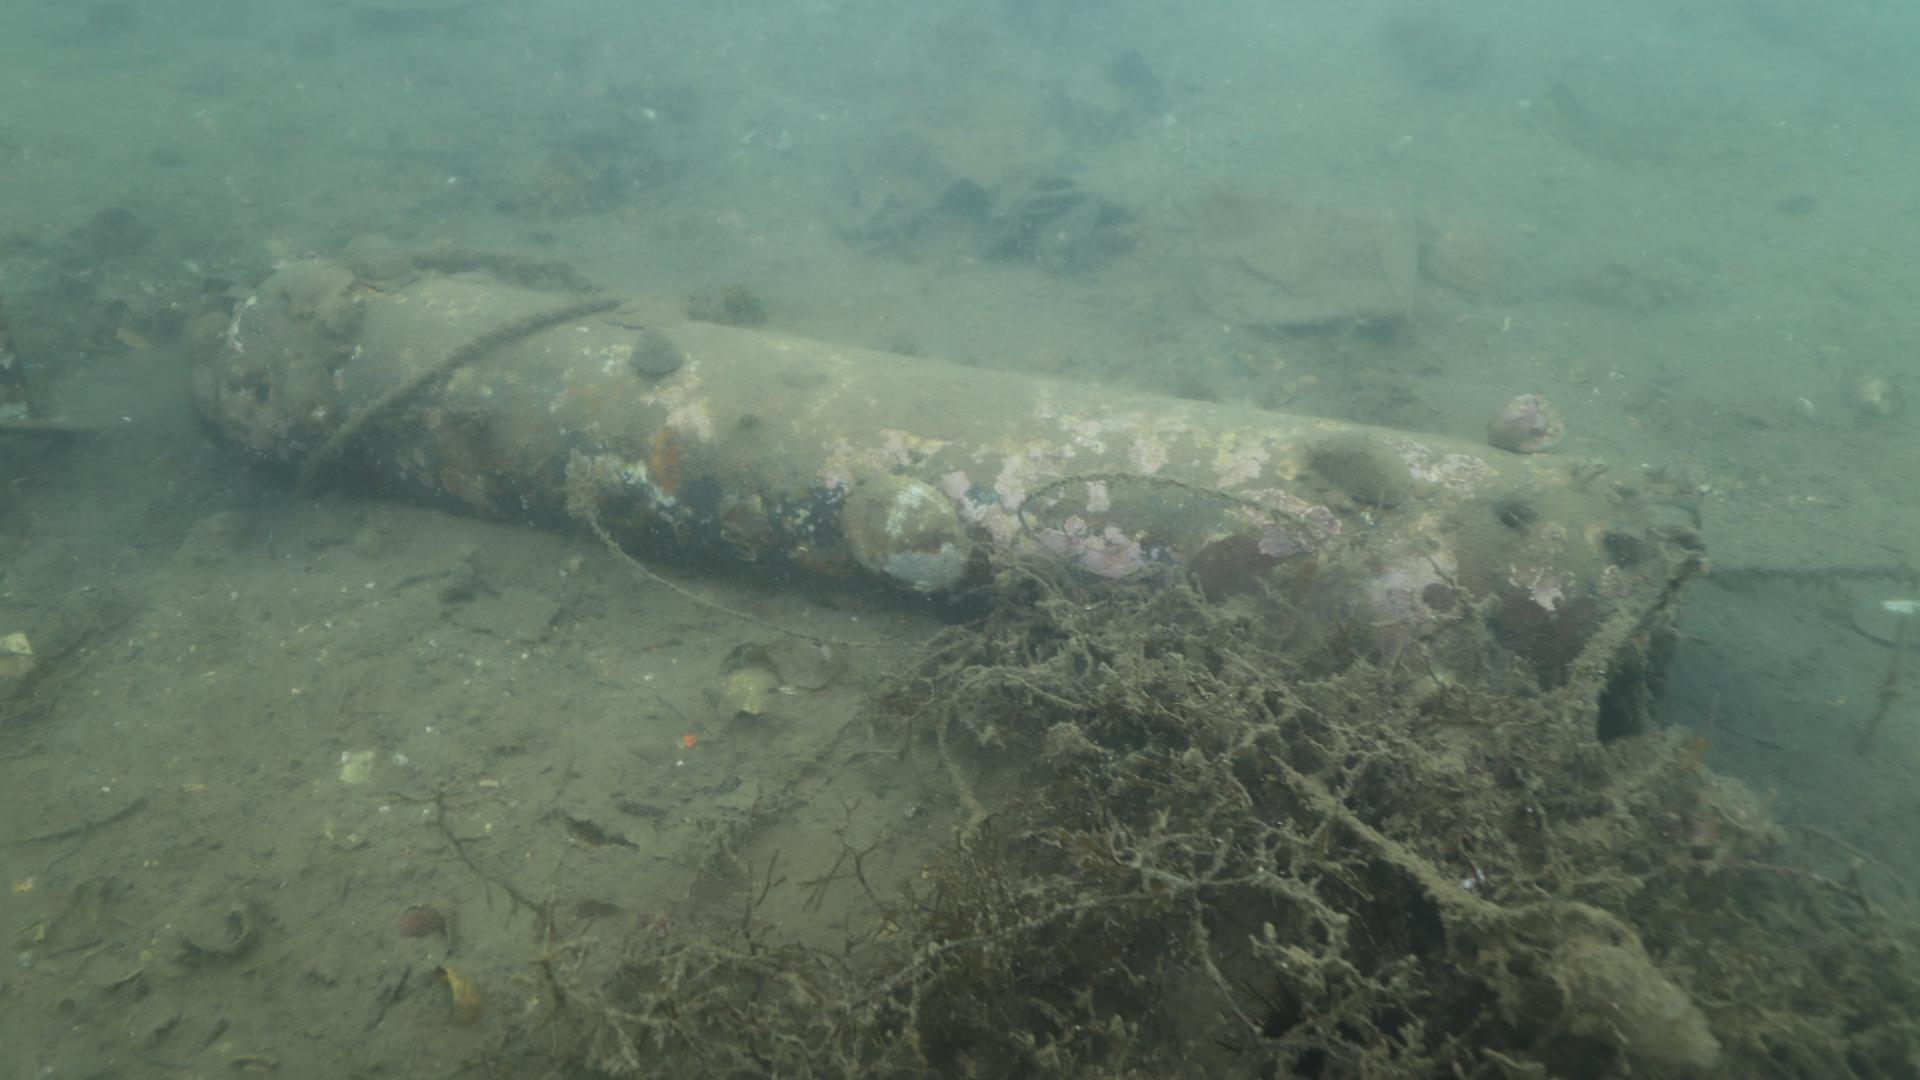eel fish trap: (178, 256, 1706, 733)
rope: (287, 243, 630, 505)
